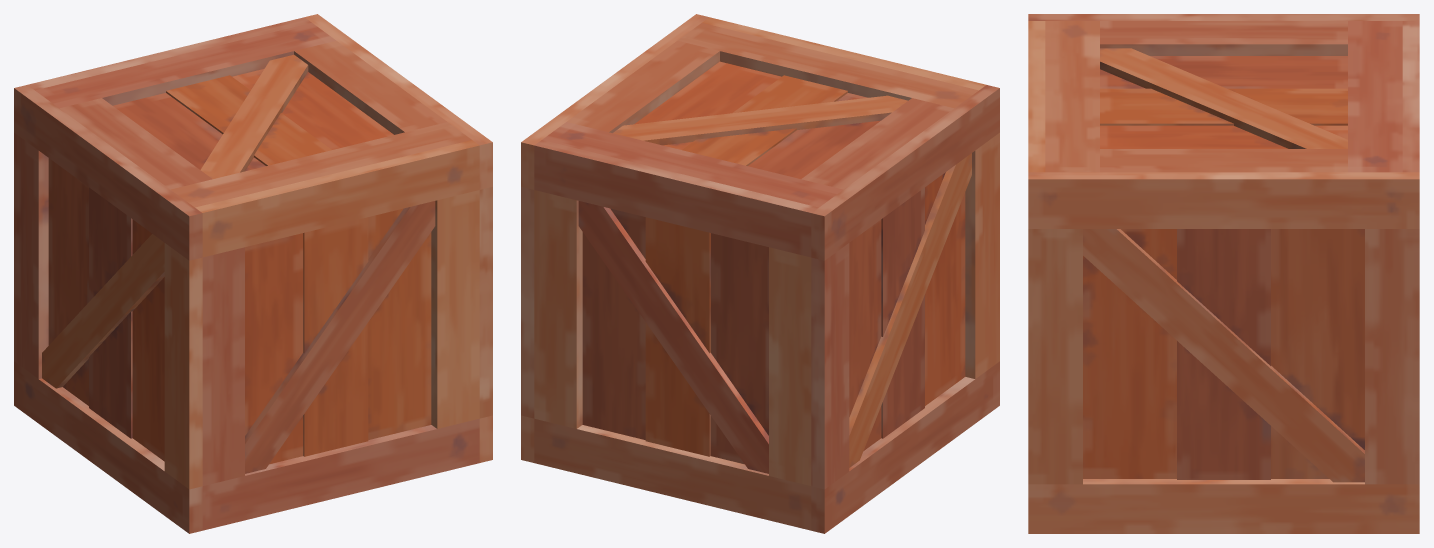
File: crate_low.fbx
3 views of the same model, side by side, from view 1: azimuth 30°, elevation 25°; view 2: azimuth 150°, elevation 25°; view 3: azimuth 270°, elevation 25° (orthographic). The views are drawn at different scales.
Parts seen in each view (by area): view 1: crate_low; view 2: crate_low; view 3: crate_low.
Part boxes in pixels (x1,y1,x2,y2): crate_low: (14,14,492,533); crate_low: (521,14,999,533); crate_low: (1028,14,1419,533).
Size of the model in its own units: 3 by 3 by 3.
1 material, 1 textured.
